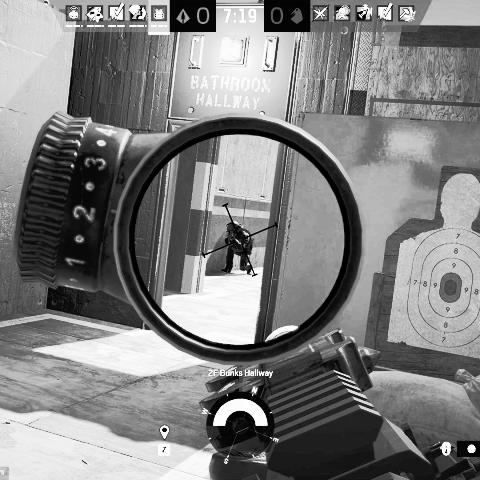Character: (220, 220, 255, 277)
Head: (225, 221, 241, 238)
